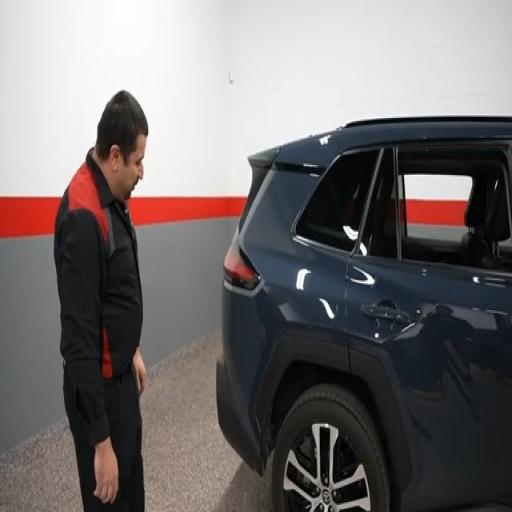bumper: (216, 356, 260, 473)
door: (347, 147, 511, 509)
emblem: (322, 490, 331, 504)
taillight: (224, 242, 259, 290)
tire: (272, 384, 390, 511)
wheel: (272, 386, 390, 511)
window: (359, 146, 511, 270), (296, 150, 379, 251)
